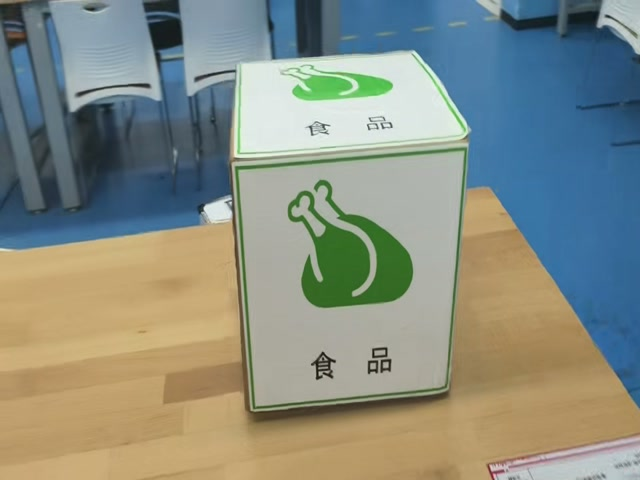Cube_food: (227, 51, 469, 169)
